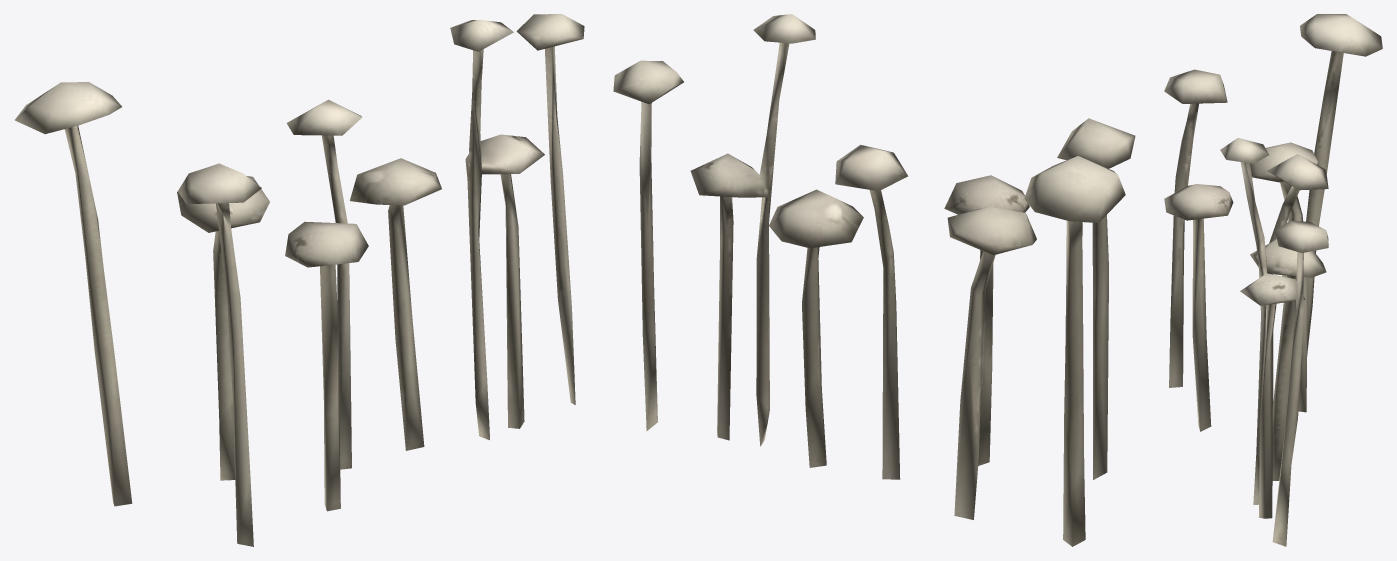
Rendered from mushgrass_b.glb.
The picture shows the model from 3 angles, left to right: view 1: azimuth 30°, elevation 25°; view 2: azimuth 150°, elevation 25°; view 3: azimuth 270°, elevation 25°; orthographic projection. The views are drawn at different scales.
Visible parts, largest first — view 1: mushgrass; view 2: mushgrass; view 3: mushgrass.
Part boxes in pixels (bbox=[...]): mushgrass: bbox=[15, 14, 584, 546]; mushgrass: bbox=[613, 14, 1135, 546]; mushgrass: bbox=[1164, 14, 1382, 546].
Size of the model in its own units: 0.1553 by 0.1211 by 0.0664.
Materials: 1 (1 with a texture image).
